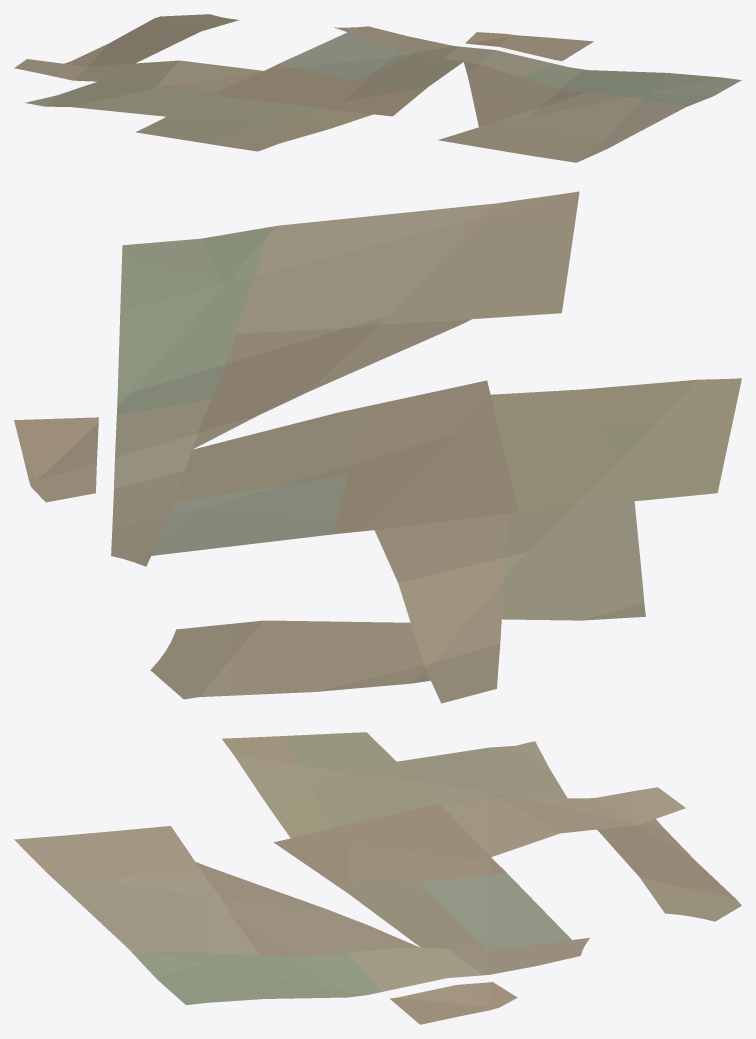
File: farm_-14_-26_soil.glb
3 renders of one model, top to bottom at view 1: azimuth 30°, elevation 25°; view 2: azimuth 150°, elevation 25°; view 3: azimuth 270°, elevation 25°, orthographic. The views are drawn at different scales.
Visible parts, largest first — view 1: geometry_0; view 2: geometry_0; view 3: geometry_0.
Part boxes in pixels (x1=…): geometry_0: x1=14, y1=14, x2=741, y2=162; geometry_0: x1=14, y1=191, x2=741, y2=703; geometry_0: x1=14, y1=732, x2=741, y2=1024.
Size of the model in its own units: 370 by 61.52 by 411.
